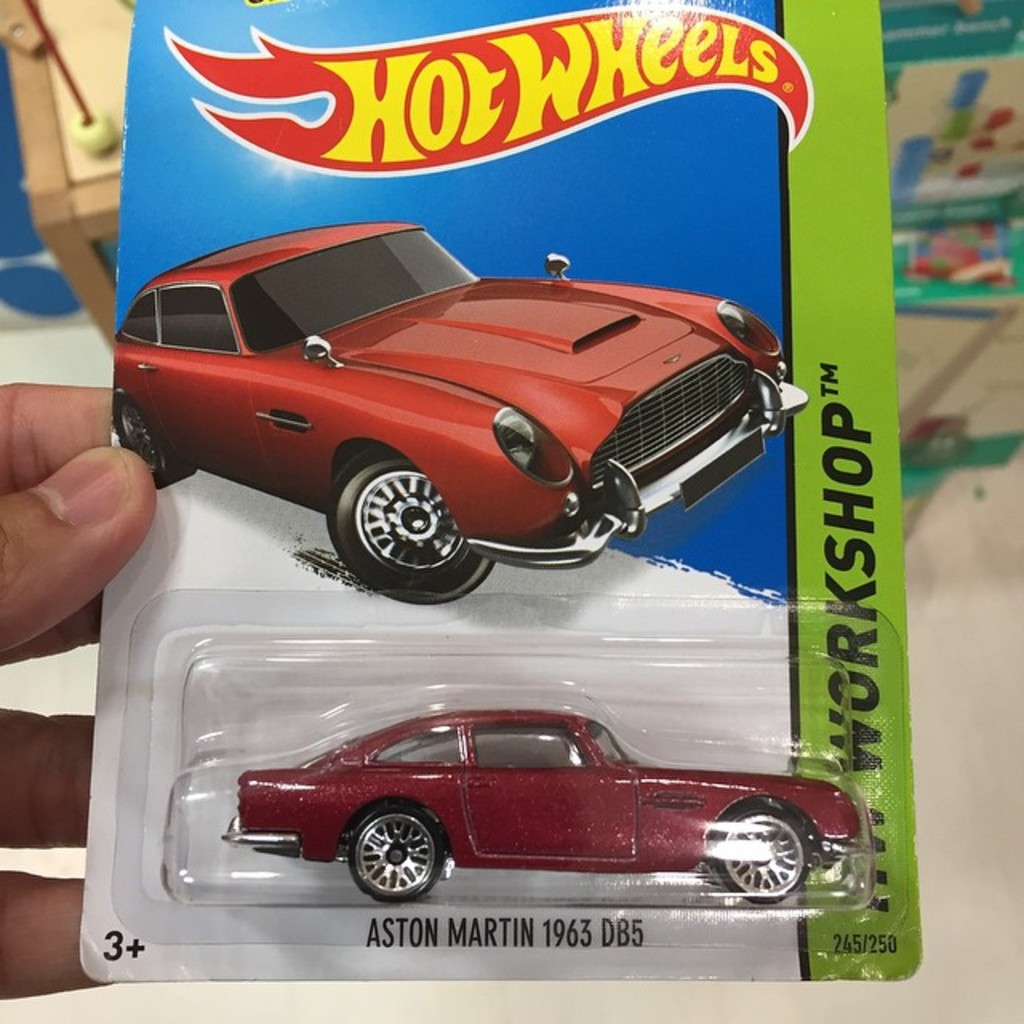Car: (108, 222, 806, 601), (227, 702, 859, 902)
